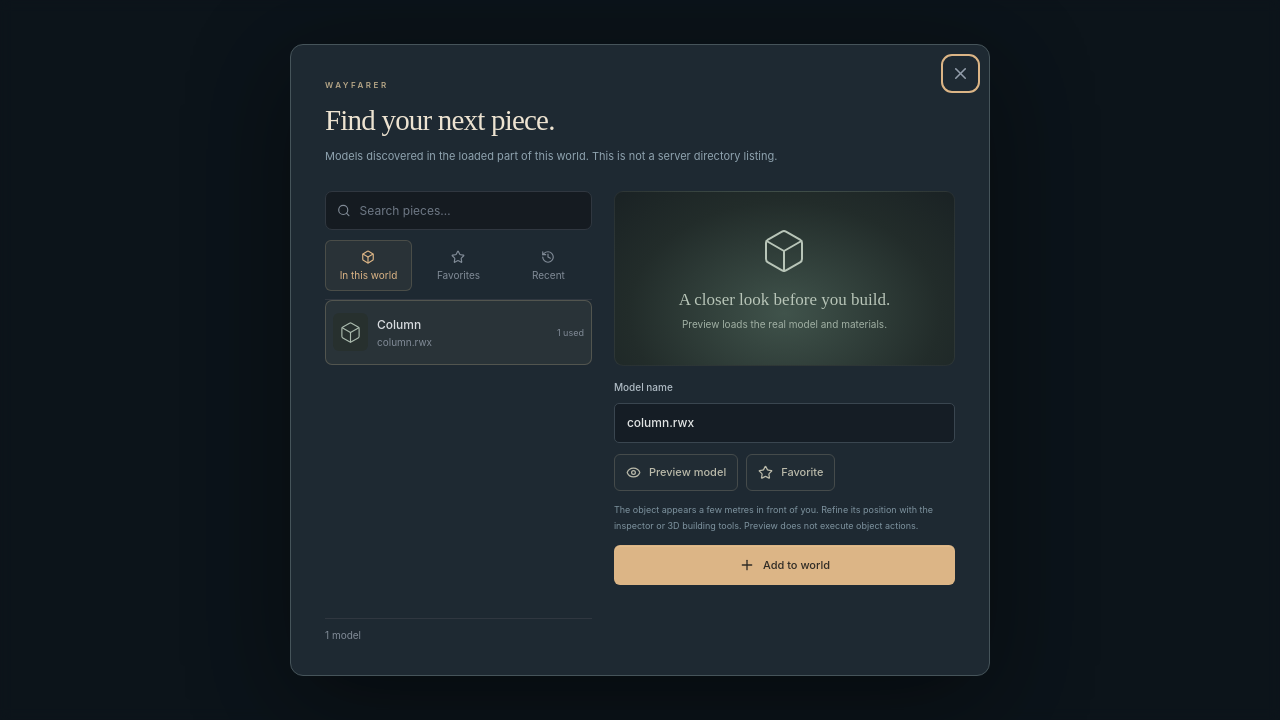
Scenario: model preview consent and add acknowledgements › keeps a rejected add available for inspection without changing recents
Replace the text in the field labelled "Model name" with "bench": point(784, 423) [614,403,955,443]
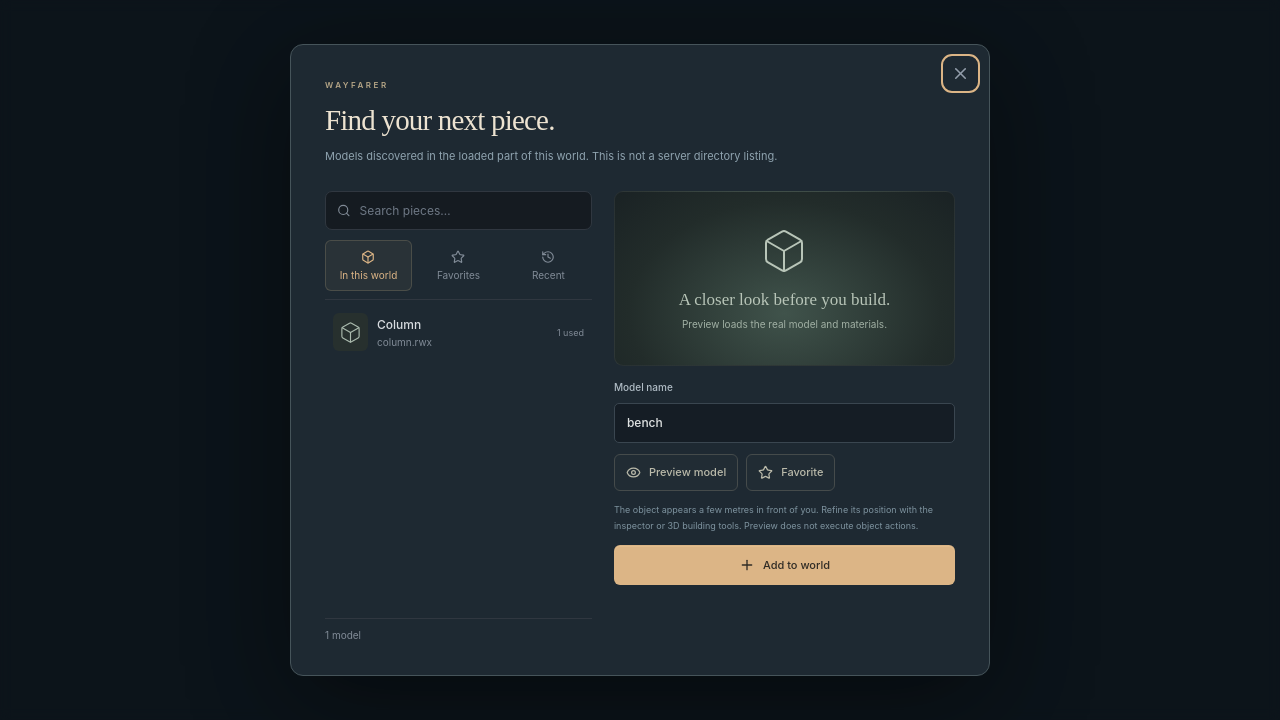
Click the button "Add to world": point(784, 565) [614,545,955,585]
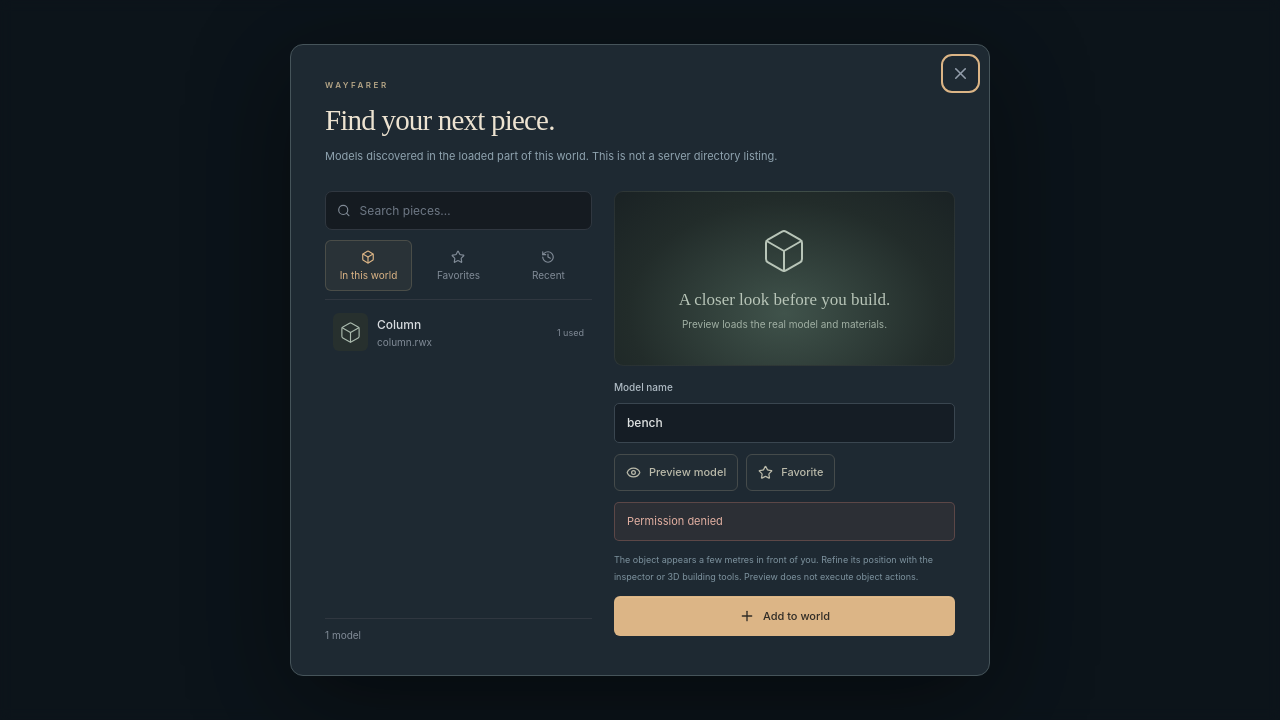
Expected: the message reads "Permission denied", [627,514,723,528]
